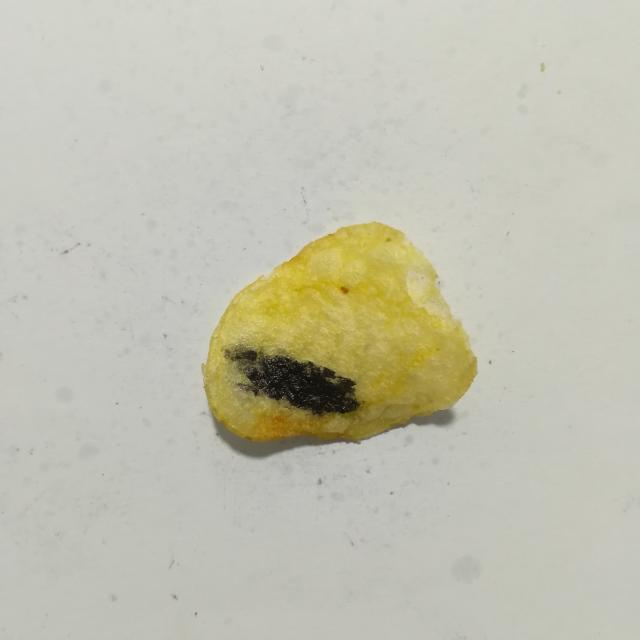chip: (202, 222, 477, 442)
damaged: (225, 348, 360, 415)
semi-damaged: (224, 343, 256, 404), (248, 341, 299, 360), (340, 286, 349, 294)
